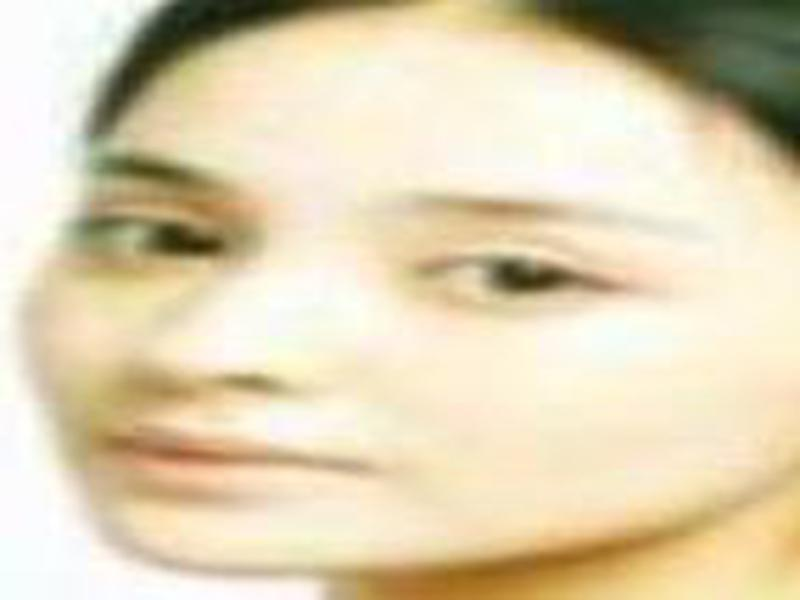without_mask: (12, 19, 785, 574)
